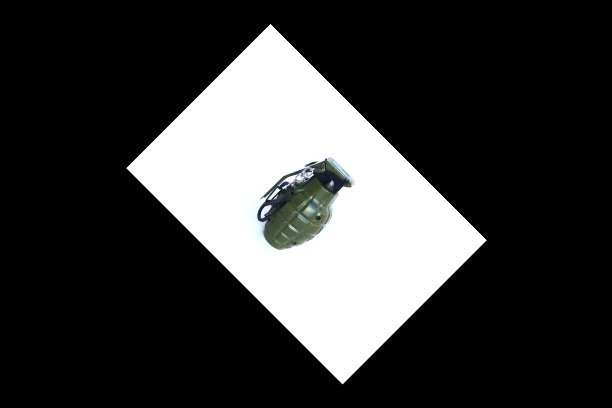e1: (257, 152, 354, 254)
